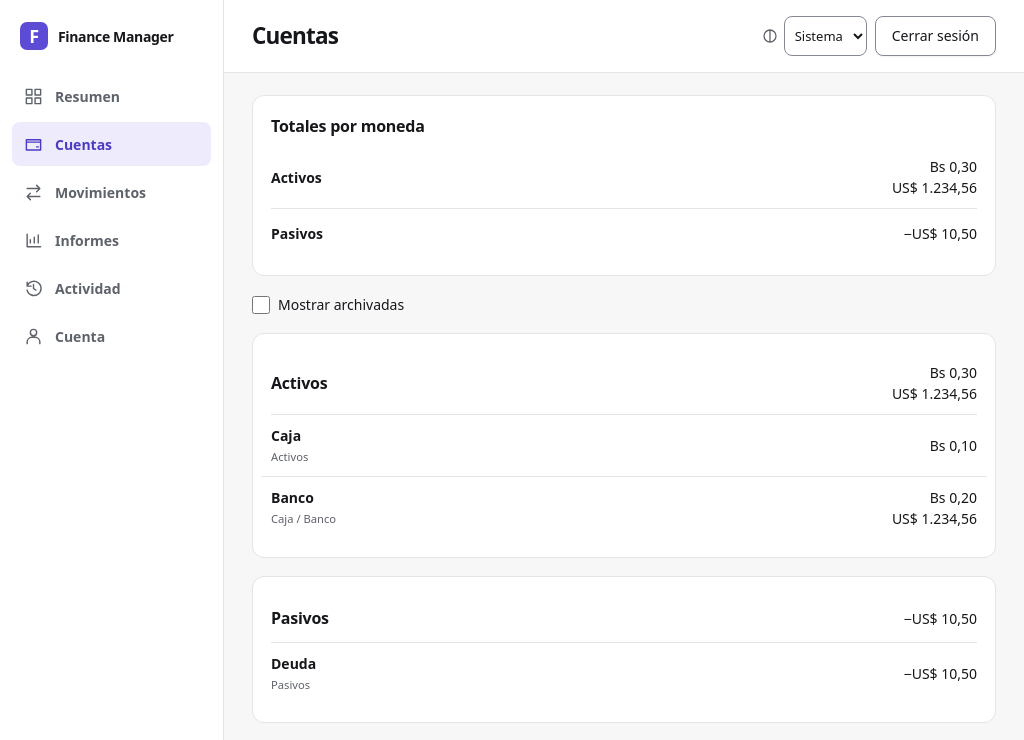
Test case: M-020 S3: muestra archivadas solo al activar el interruptor
Expected: the heading "Activos" is shown, [271,371,327,395]
Expected: the text "Antigua" is not shown
Click the checkbox labelled "Mostrar archivadas" at (261, 304), box [252,296,270,314]
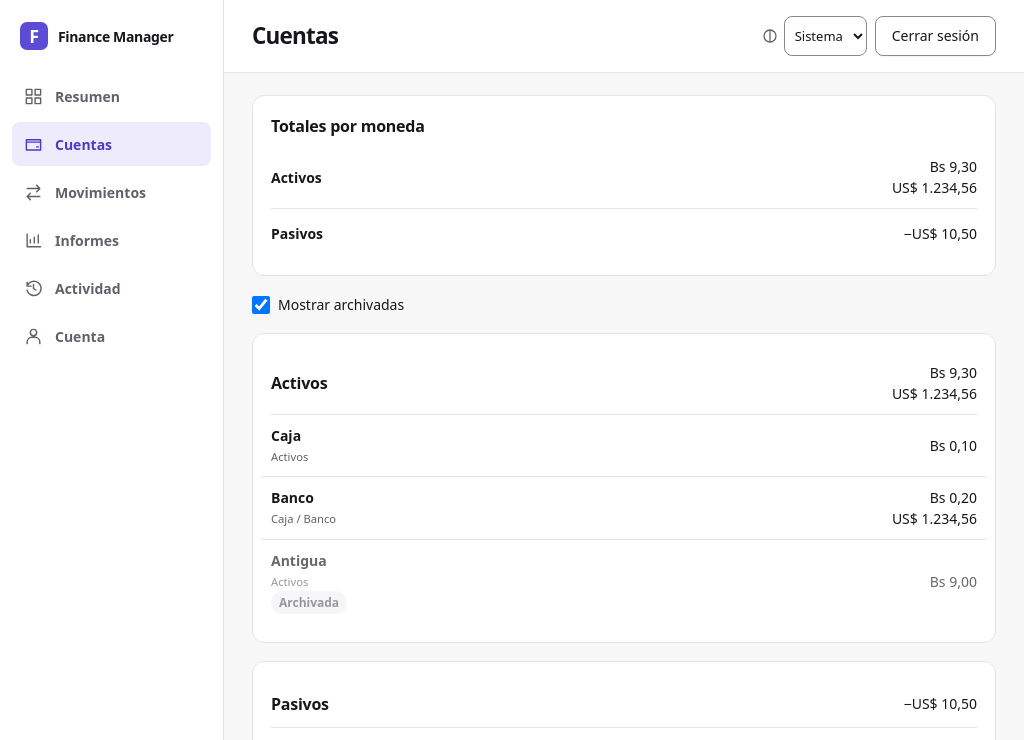
Expected: the text "Antigua" is shown, [271,551,327,570]
Expected: the text "Archivada" is shown, [271,591,347,614]
